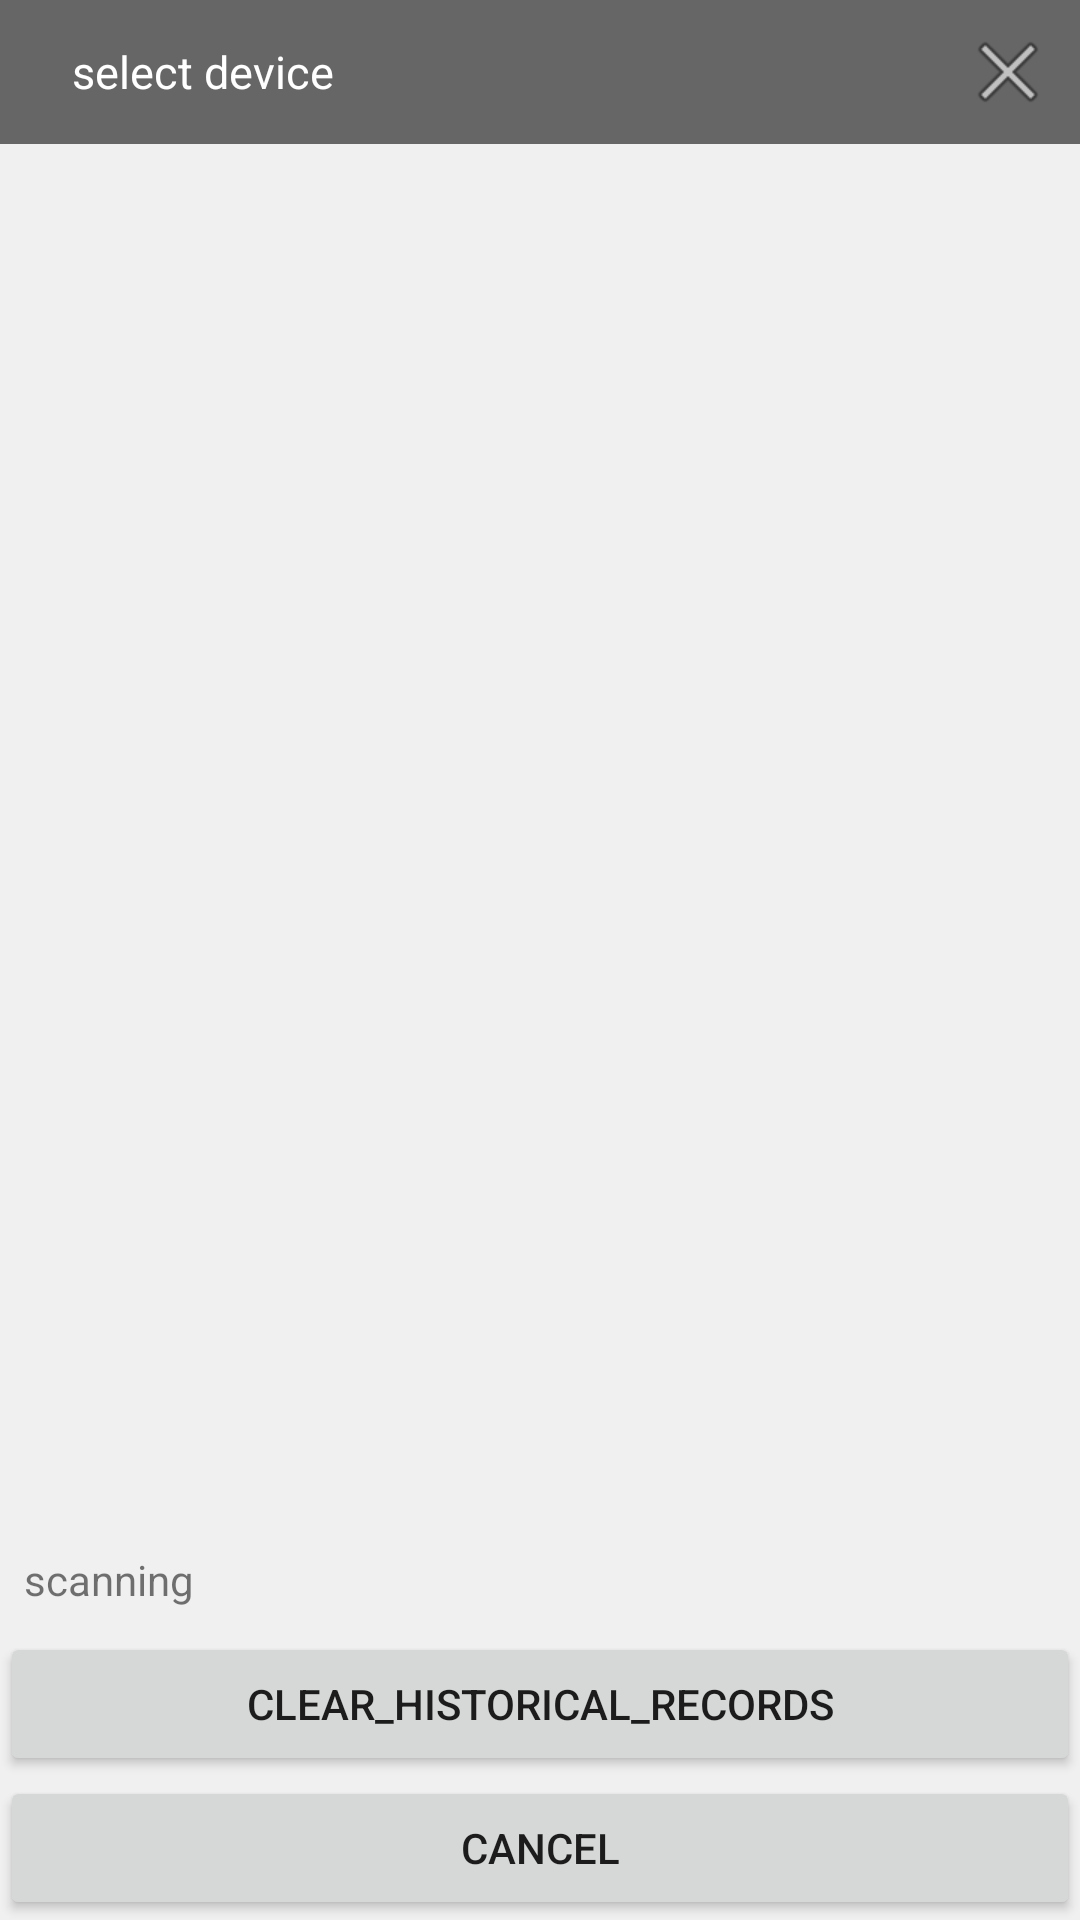

Icons on this 1080w x 1920h Android screen, each with its box as (x1, y1, x2, y2):
close clear cancel: (979, 43, 1037, 101)
